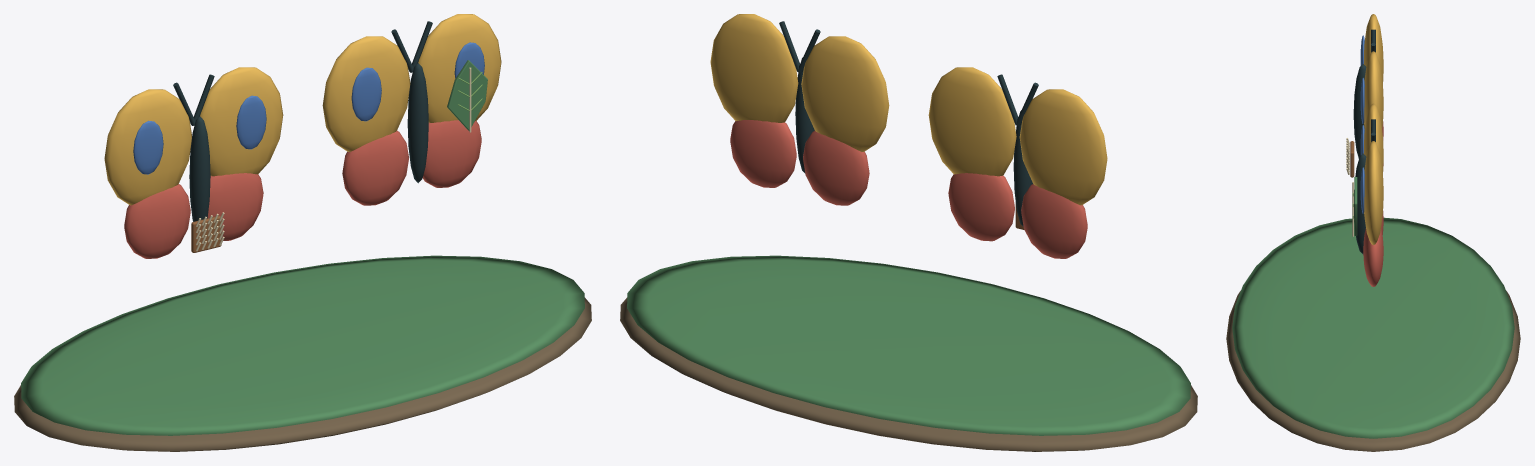
Rendered from paired-butterflies.glb.
3 renders of one model, left to right at view 1: azimuth 30°, elevation 25°; view 2: azimuth 150°, elevation 25°; view 3: azimuth 270°, elevation 25°, orthographic. The views are drawn at different scales.
Visible parts, largest first — view 1: paired-butterflies_surface_01, paired-butterflies_surface_02, paired-butterflies_surface_03, paired-butterflies_surface_00, paired-butterflies_surface_05, paired-butterflies_surface_04, paired-butterflies_surface_07, paired-butterflies_surface_06; view 2: paired-butterflies_surface_01, paired-butterflies_surface_02, paired-butterflies_surface_03, paired-butterflies_surface_00, paired-butterflies_surface_05; view 3: paired-butterflies_surface_01, paired-butterflies_surface_00, paired-butterflies_surface_02, paired-butterflies_surface_05, paired-butterflies_surface_03, paired-butterflies_surface_04.
Boxes of the visible parts, x1,y1,x2,y2 form: paired-butterflies_surface_01: (21, 60, 584, 435); paired-butterflies_surface_02: (104, 14, 501, 205); paired-butterflies_surface_03: (124, 120, 481, 258); paired-butterflies_surface_00: (14, 297, 591, 451); paired-butterflies_surface_05: (173, 21, 432, 221); paired-butterflies_surface_04: (133, 42, 484, 174); paired-butterflies_surface_07: (196, 67, 471, 251); paired-butterflies_surface_06: (191, 215, 221, 252); paired-butterflies_surface_01: (627, 255, 1190, 435); paired-butterflies_surface_02: (710, 14, 1107, 205); paired-butterflies_surface_03: (730, 120, 1087, 258); paired-butterflies_surface_00: (620, 297, 1197, 451); paired-butterflies_surface_05: (779, 21, 1038, 226); paired-butterflies_surface_01: (1232, 177, 1514, 438); paired-butterflies_surface_00: (1226, 290, 1520, 451); paired-butterflies_surface_02: (1363, 14, 1383, 244); paired-butterflies_surface_05: (1353, 29, 1375, 254); paired-butterflies_surface_03: (1363, 121, 1383, 286); paired-butterflies_surface_04: (1360, 35, 1364, 213).
Bounding box in the file's own units: 4.56 × 2.55 × 2.5.
